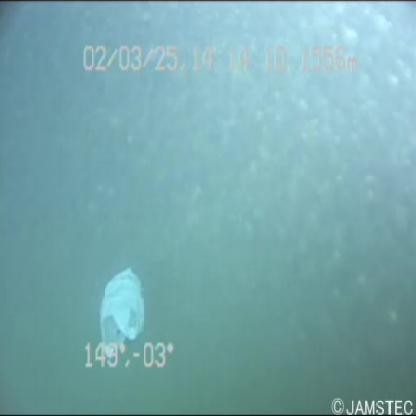Rác: (89, 262, 150, 360)
